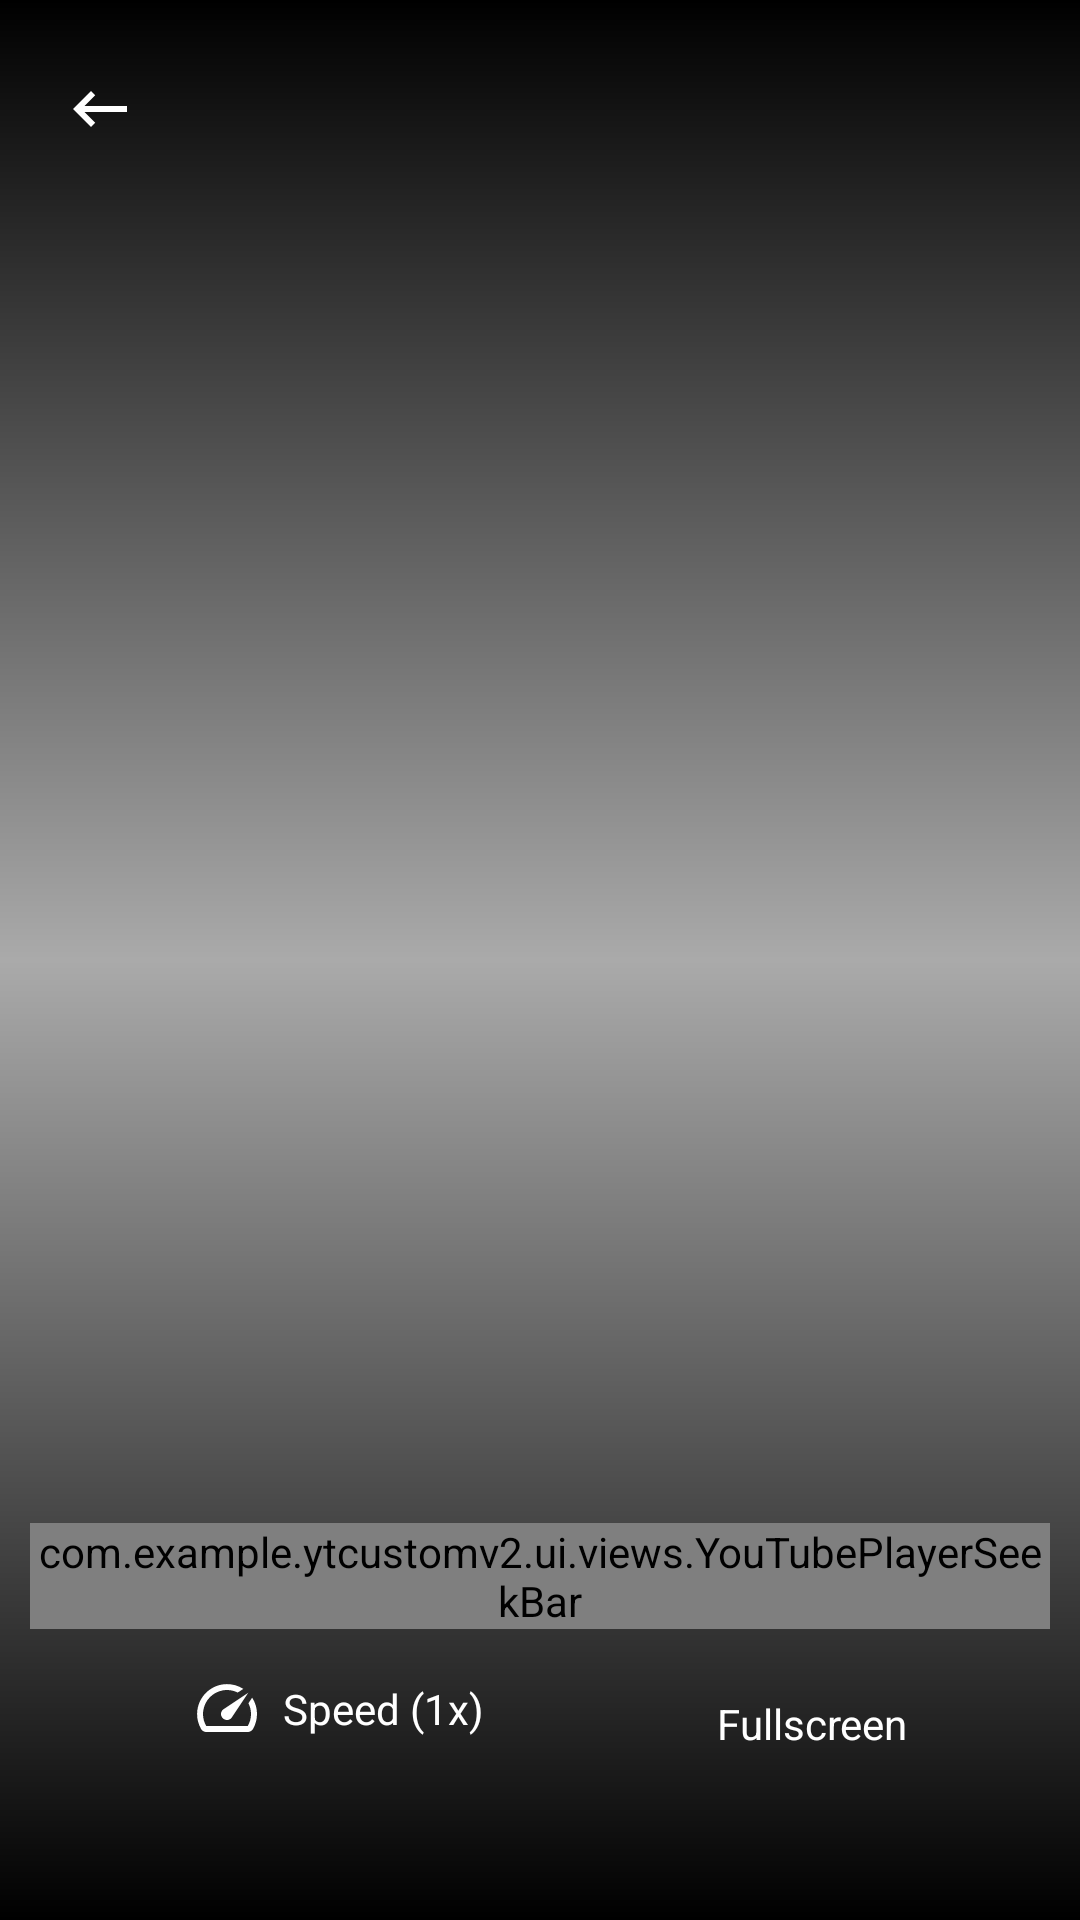

Named icons in this screenshot (1080x1920) and their bounding boxes, (x1, y1, x2, y2):
back long: (73, 91, 127, 127)
